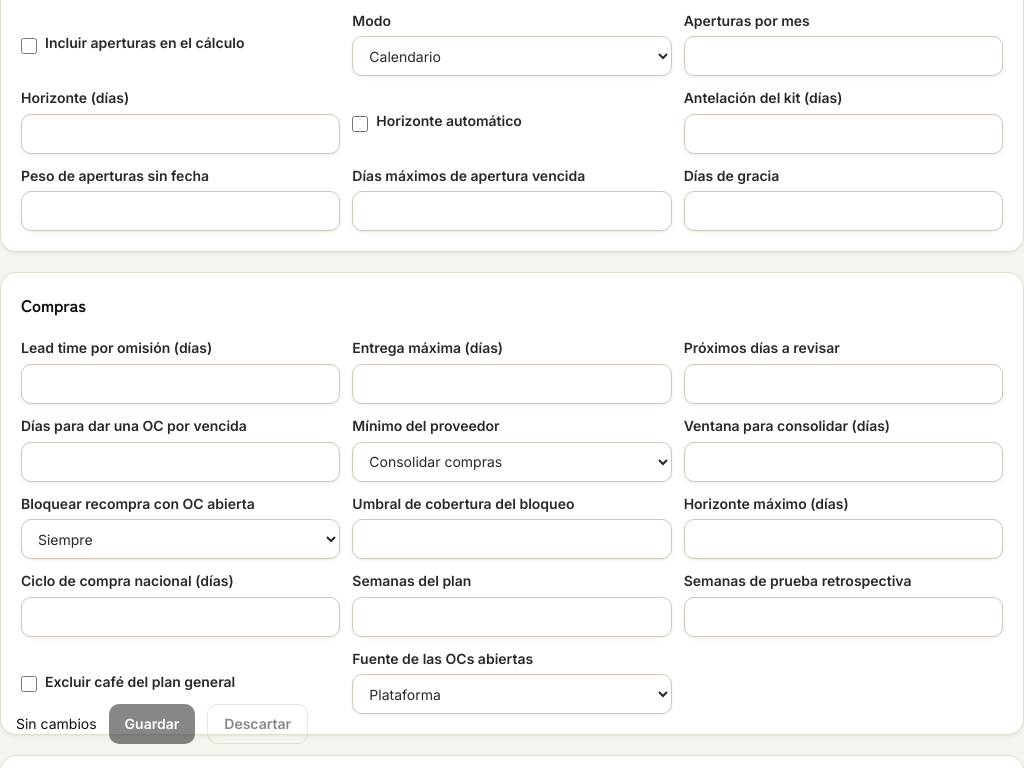
Test: configuración (I4 e I5) › vaciar un número conserva el valor anterior; fuera de rango se acota
(page scrolled)
Clear the number field labelled "Lead time por omisión (días)" at x=181, y=384, box [21,364,340,404]
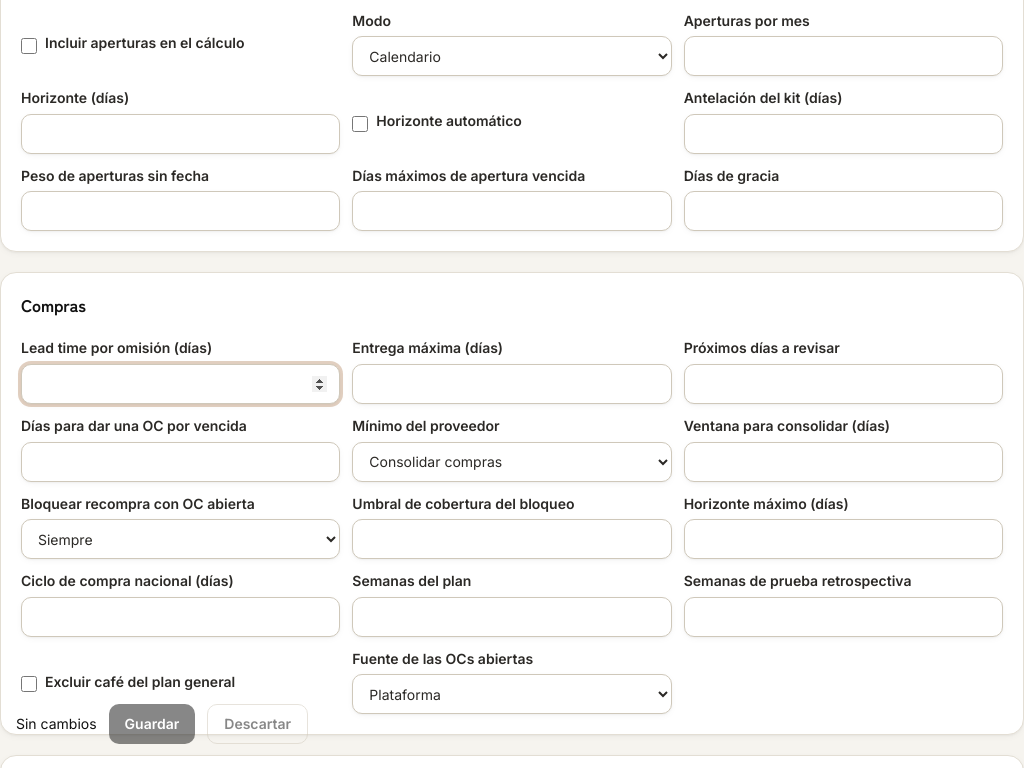
Expected: the text "Sin cambios" is shown, [16,714,97,734]
Type "999" into the number field labelled "Lead time por omisión (días)".
click(181, 384); type("999")  # box [21,364,340,404]
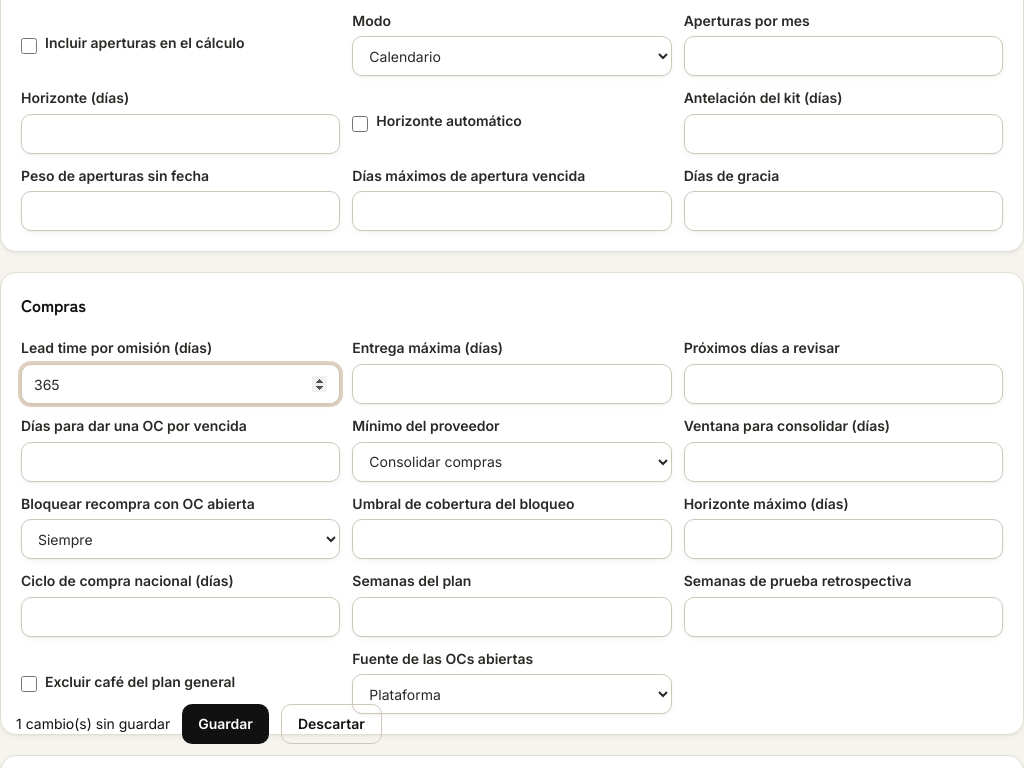
Expected: the number field labelled "Lead time por omisión (días)" holds "365", [21,364,340,404]
